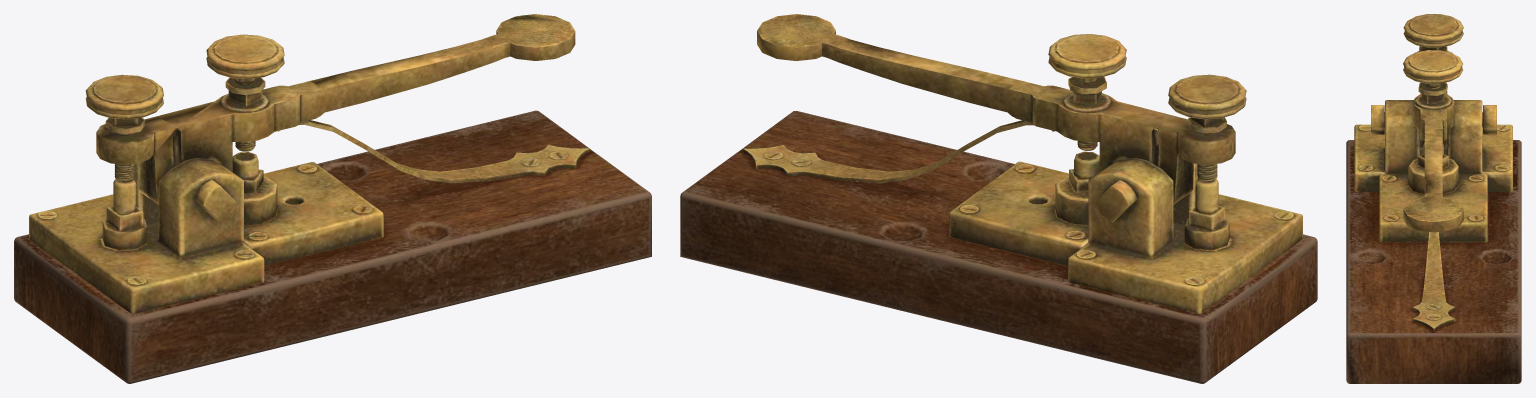
File: telegraph.glb
3 views of the same model, side by side, from view 1: azimuth 30°, elevation 25°; view 2: azimuth 150°, elevation 25°; view 3: azimuth 270°, elevation 25° (orthographic). The views are drawn at different scales.
Parts seen in each view (by area): view 1: Cube; view 2: Cube; view 3: Cube.
Part boxes in pixels (x1,y1,x2,y2): Cube: (14,14,651,383); Cube: (680,14,1317,383); Cube: (1346,14,1521,383).
Bounding box in the file's own units: 331 × 152 × 126.
Materials: 1 (1 with a texture image).
